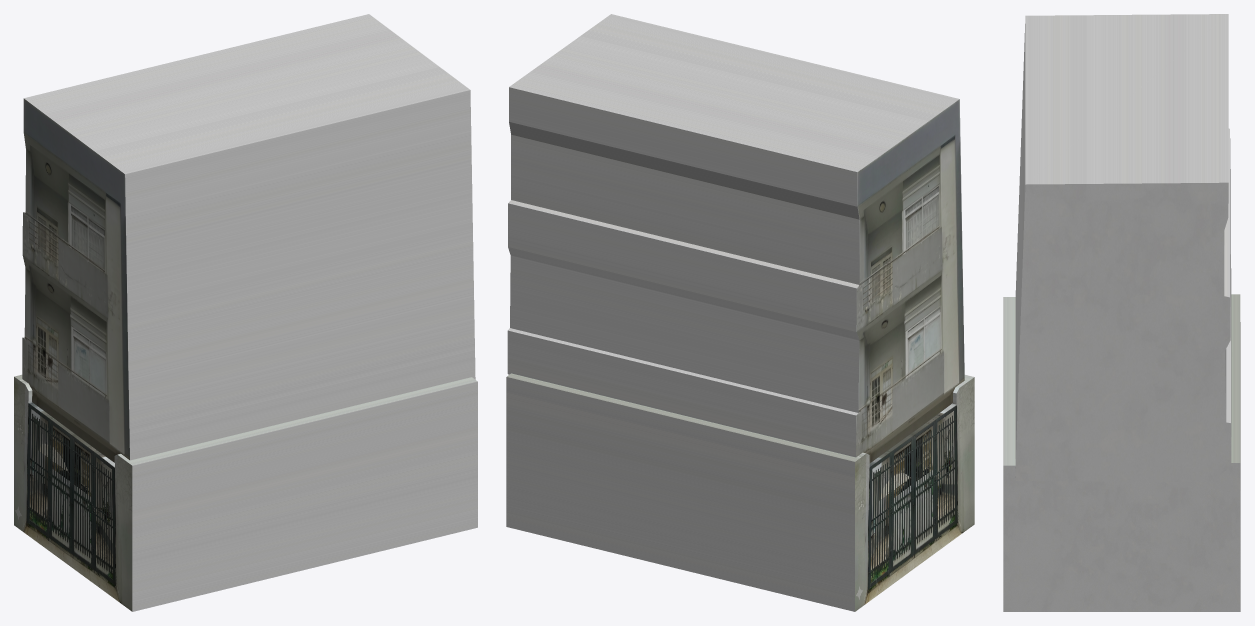
File: RefHouse16.fbx
The picture shows the model from 3 angles, left to right: view 1: azimuth 30°, elevation 25°; view 2: azimuth 150°, elevation 25°; view 3: azimuth 270°, elevation 25°; orthographic projection.
Visible parts, largest first — view 1: ReferenceHouse16; view 2: ReferenceHouse16; view 3: ReferenceHouse16.
Part boxes in pixels (<box>): ReferenceHouse16: <box>14,14,477,611</box>; ReferenceHouse16: <box>506,14,974,611</box>; ReferenceHouse16: <box>1003,14,1240,611</box>.
Size of the model in its own units: 933 by 1100 by 549.
2 materials, 2 textured.
